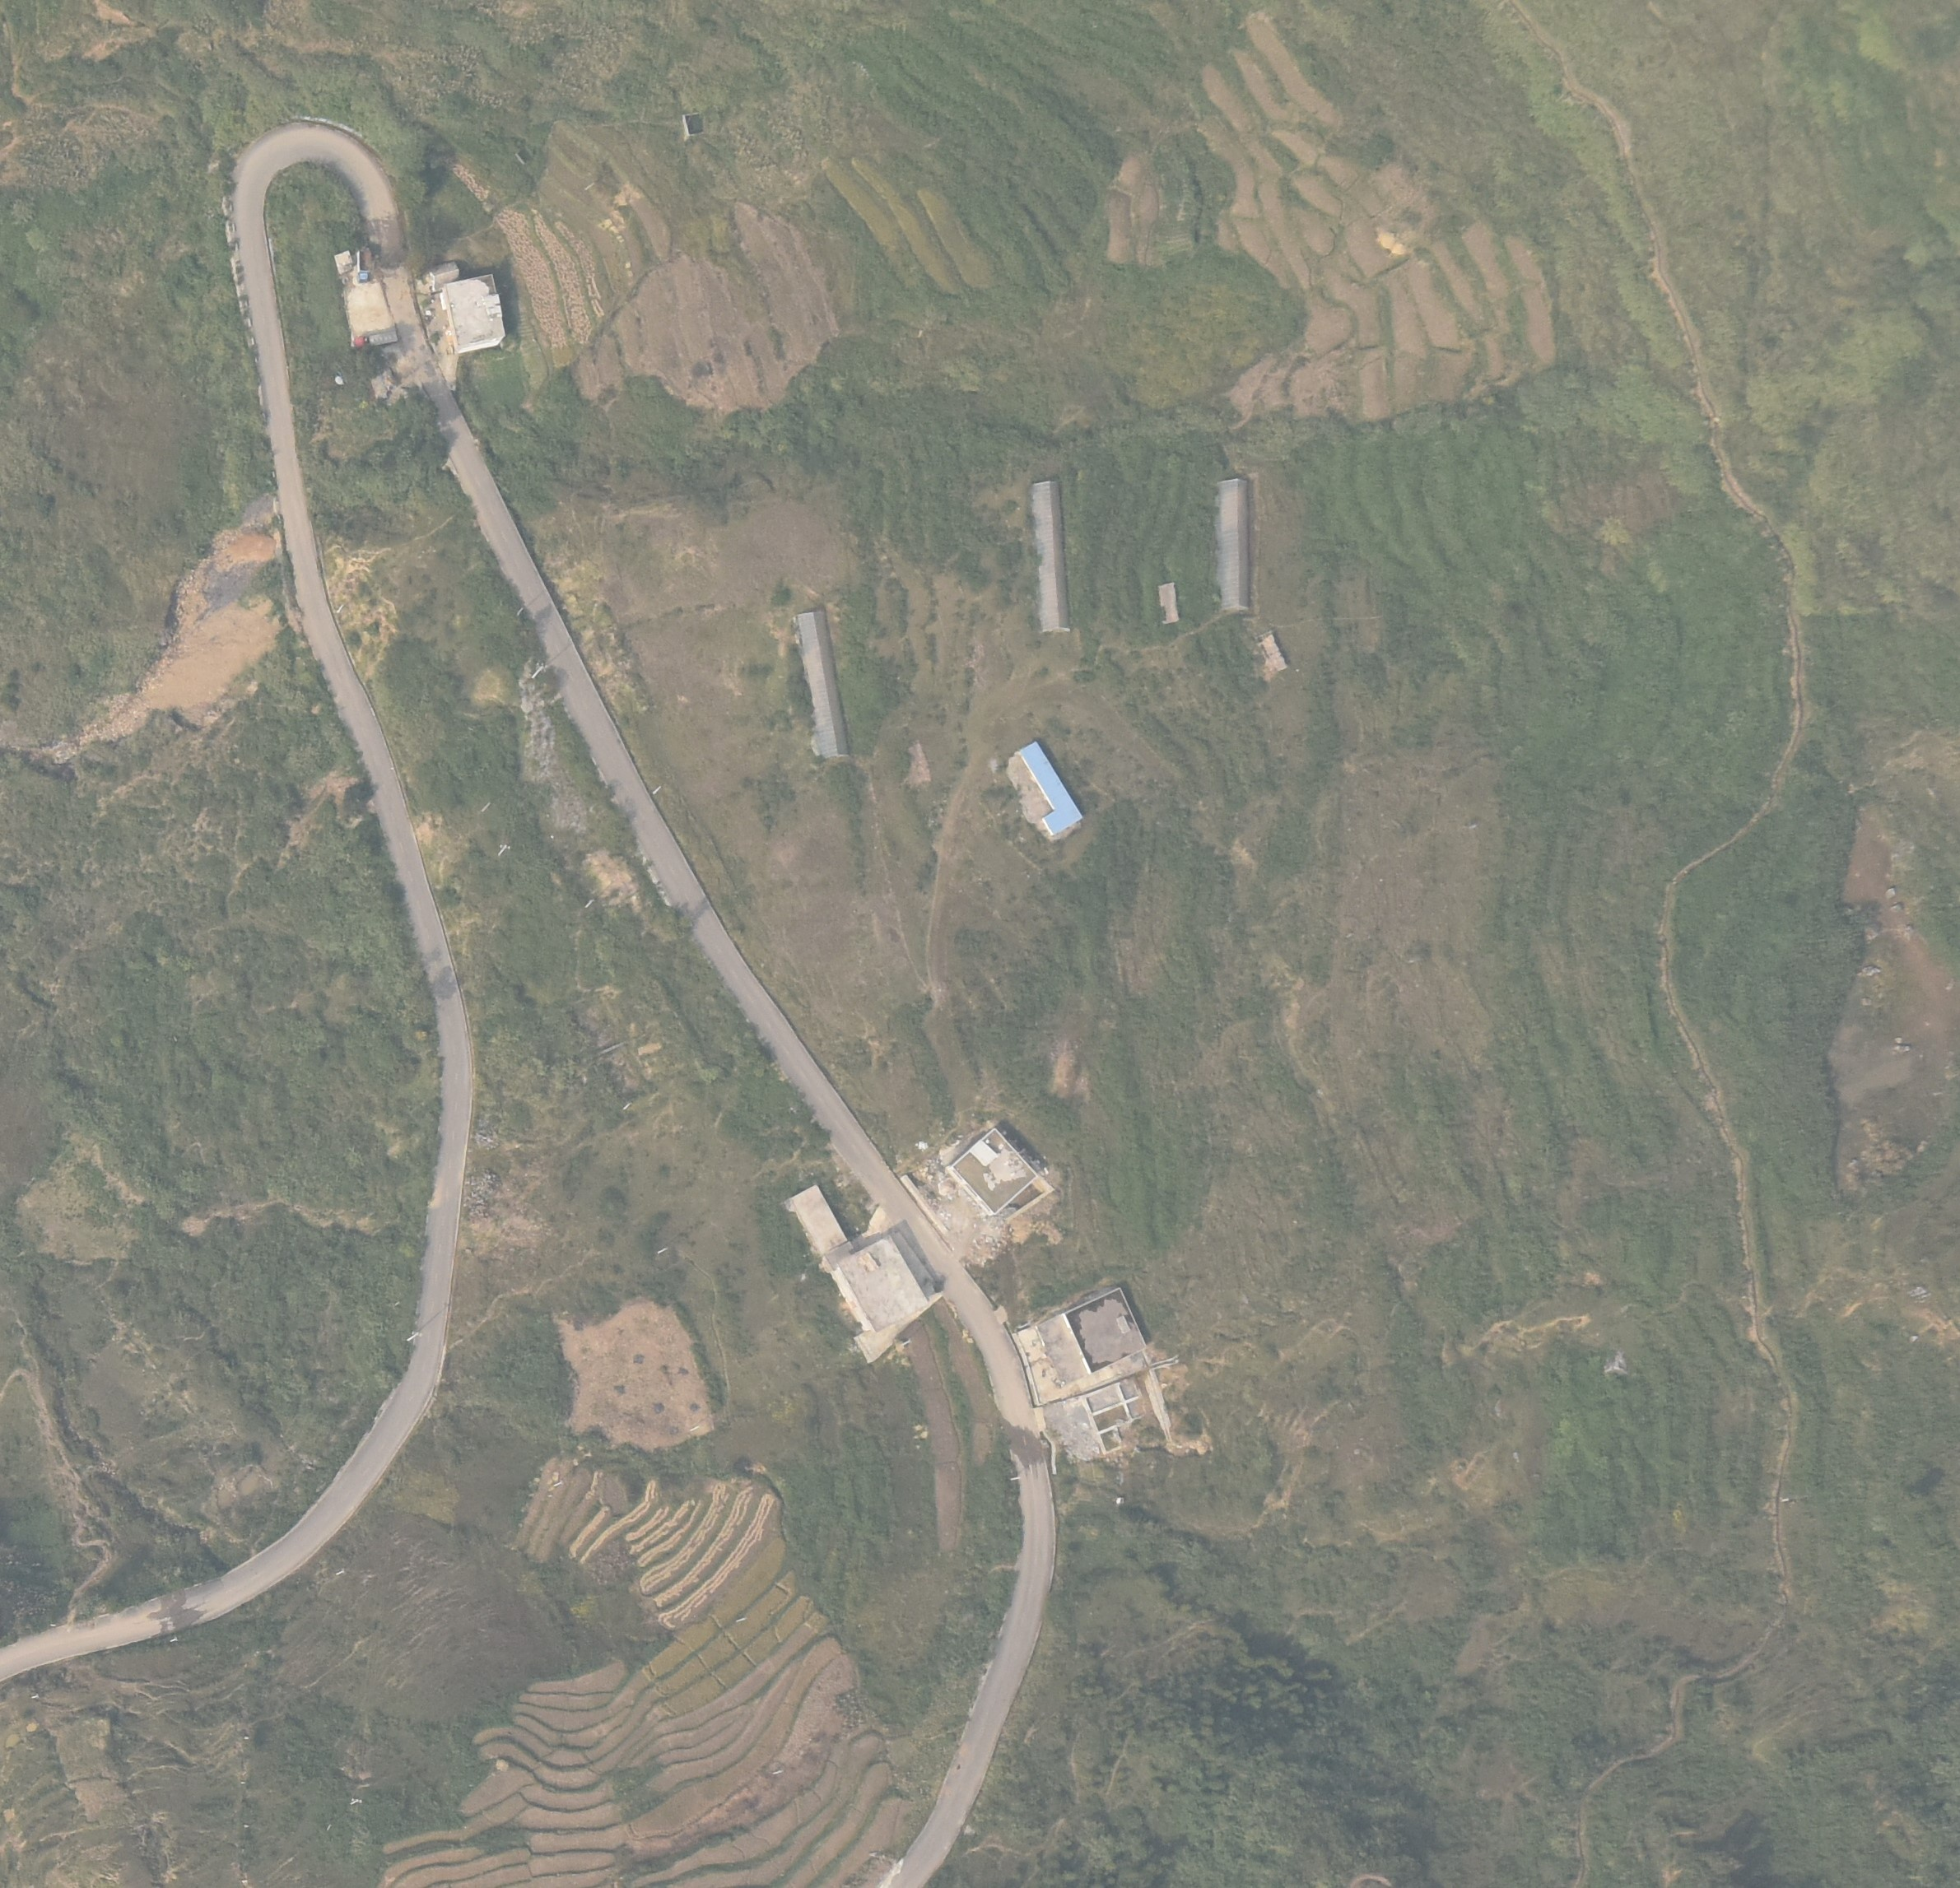building: (1035, 1288, 1146, 1386), (826, 1230, 933, 1329), (949, 1128, 1038, 1214), (795, 608, 846, 757), (1032, 479, 1071, 633), (1085, 1377, 1154, 1453), (443, 272, 505, 352), (1214, 477, 1252, 610), (793, 1184, 845, 1254), (1257, 631, 1285, 674), (1158, 584, 1180, 623), (429, 261, 457, 286)
cable-tower: (534, 660, 550, 670), (499, 844, 513, 853), (410, 1329, 424, 1338), (350, 1797, 363, 1804)
prefabricated-house: (1016, 741, 1082, 832)
vehicle: (356, 331, 398, 349), (358, 249, 373, 282)
